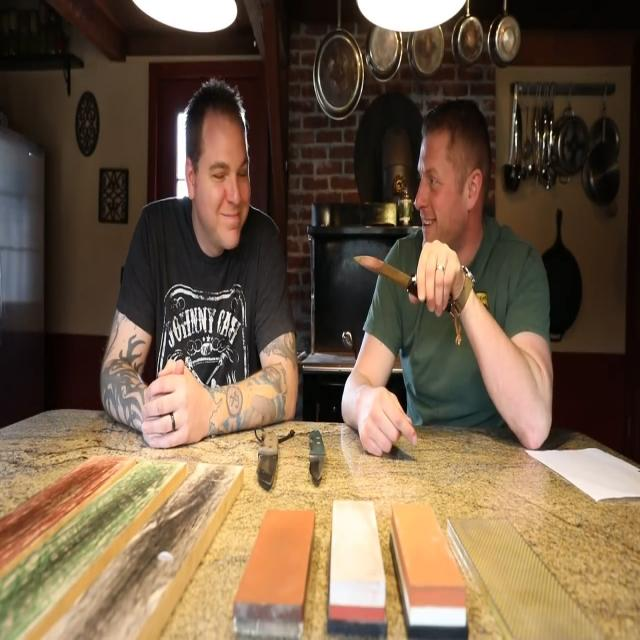knife: (351, 245, 416, 299), (258, 423, 282, 492), (307, 423, 327, 496)
